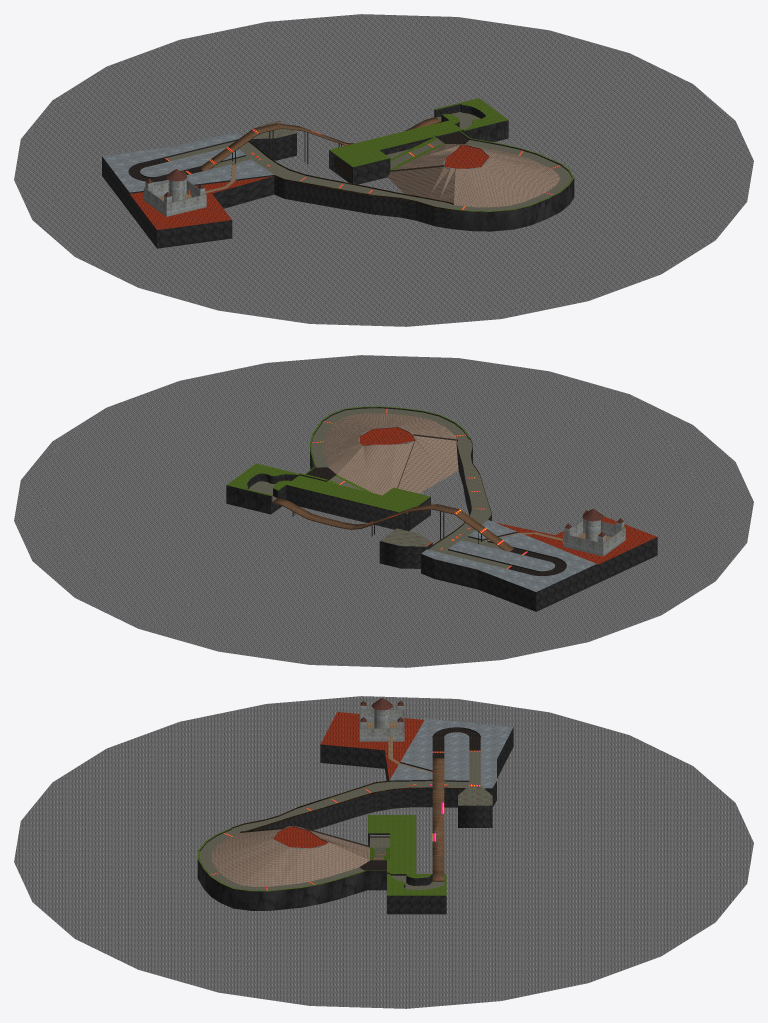
3 views of the same model, one above another, from view 1: azimuth 30°, elevation 25°; view 2: azimuth 150°, elevation 25°; view 3: azimuth 270°, elevation 25° (orthographic).
Parts seen in each view (by area): view 1: lava.003, wall.014, road_volcano.002, road.029, off_road.001, grass.028, road_lava.001, wall_secret.001, wood.010, trans_fence_2.001, trans_grid.001; view 2: lava.003, wall.014, road_volcano.002, road.029, off_road.001, grass.028, road_lava.001, wood.010, wall_secret.001, trans_grid.001; view 3: lava.003, wall.014, road_volcano.002, off_road.001, road.029, grass.028, road_lava.001, wood.010, wall_secret.001, trans_grid.001, trans_fence_2.001.
Part boxes in pixels (<box>): lava.003: <box>14,14,753,326</box>; wall.014: <box>102,104,574,248</box>; road_volcano.002: <box>387,144,560,207</box>; road.029: <box>166,112,571,211</box>; off_road.001: <box>102,133,488,192</box>; grass.028: <box>329,98,573,211</box>; road_lava.001: <box>130,145,489,230</box>; wall_secret.001: <box>144,174,206,216</box>; wood.010: <box>199,117,441,170</box>; trans_fence_2.001: <box>250,142,453,210</box>; trans_grid.001: <box>128,132,468,181</box>; lava.003: <box>14,355,753,667</box>; wall.014: <box>226,407,657,611</box>; road_volcano.002: <box>323,413,458,495</box>; road.029: <box>249,408,510,568</box>; off_road.001: <box>358,427,596,591</box>; grass.028: <box>226,406,470,513</box>; road_lava.001: <box>360,427,656,564</box>; wood.010: <box>272,497,514,551</box>; wall_secret.001: <box>563,514,625,556</box>; trans_grid.001: <box>307,467,566,575</box>; lava.003: <box>14,696,753,1008</box>; wall.014: <box>197,727,513,914</box>; road_volcano.002: <box>211,829,369,886</box>; off_road.001: <box>274,718,513,848</box>; road.029: <box>199,751,492,890</box>; grass.028: <box>198,815,446,895</box>; road_lava.001: <box>273,712,424,848</box>; wood.010: <box>432,758,478,881</box>; wall_secret.001: <box>359,706,404,741</box>; trans_grid.001: <box>359,728,480,870</box>; trans_fence_2.001: <box>231,780,465,830</box>.
Size of the model in its own units: 199734 by 27983 by 199734.
Materials: 16 (16 with a texture image).
